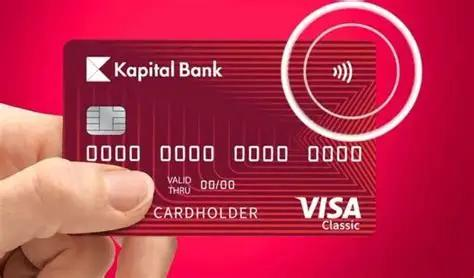Kapital Bank: (84, 54, 112, 82)
